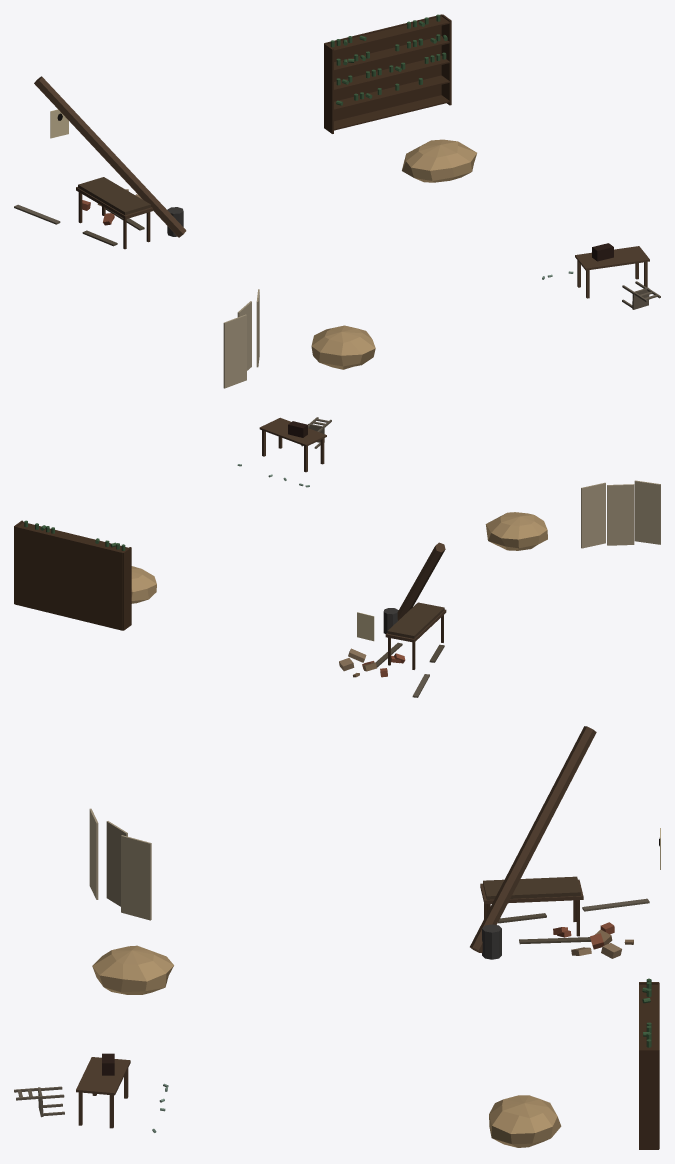
Rendered from TownRoom_doctor.glb.
3 renders of one model, top to bottom at view 1: azimuth 30°, elevation 25°; view 2: azimuth 150°, elevation 25°; view 3: azimuth 270°, elevation 25°, orthographic. The views are drawn at different scales.
Visible parts, largest first — view 1: TownRoom_doctor.001; view 2: TownRoom_doctor.001; view 3: TownRoom_doctor.001.
Part boxes in pixels (x1,y1,x2,y2): TownRoom_doctor.001: [14, 14, 660, 388]; TownRoom_doctor.001: [14, 417, 660, 697]; TownRoom_doctor.001: [14, 726, 660, 1149].
Size of the model in its own units: 12.55 by 4.47 by 12.98.
